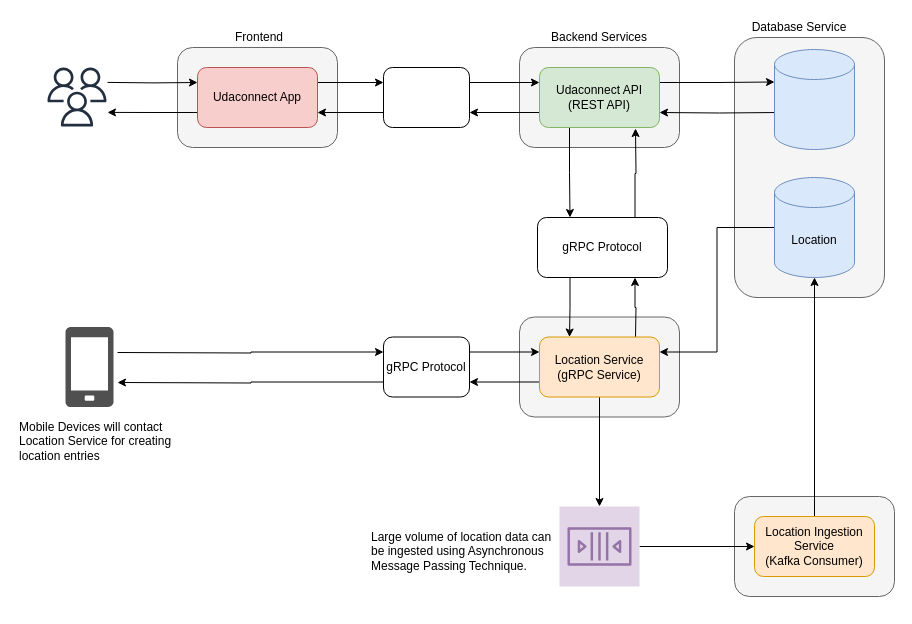
This 912x624 diagram has some shape labels left out. Here are the shapes that lost their labels. From the top down, the centre of each, then its label:
At [426,97]: "REST Protocol".
At [814,99]: "Person".
At [599,546]: "Kafka Queue".
